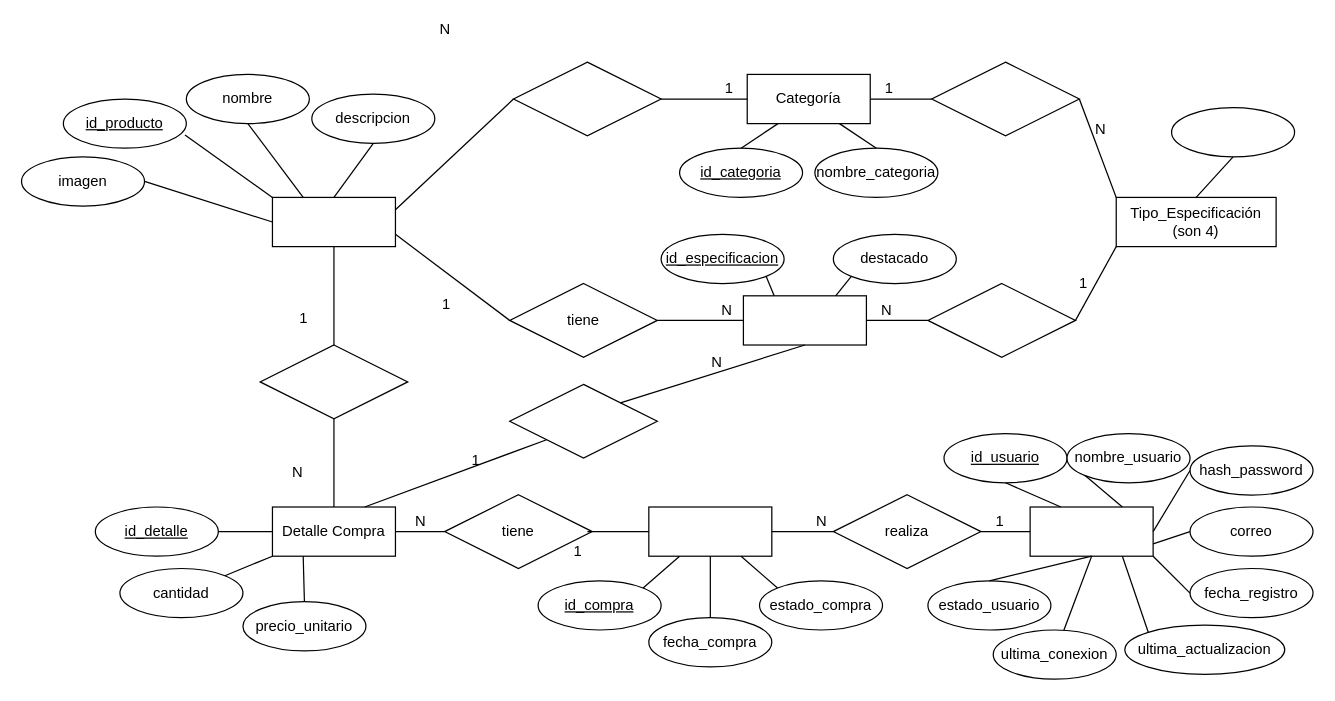
This 1335x701 diagram has some shape labels left out. Here are the shapes that lost their labels. From the top down, the box of each, then its label:
(512, 61, 661, 136): pertenece a
(930, 61, 1079, 136): define
(1170, 106, 1295, 157): precio
(271, 196, 395, 247): Producto
(742, 295, 866, 345): Especificación
(927, 282, 1076, 357): es de
(259, 344, 408, 419): corresponde a
(508, 383, 657, 458): incluye
(648, 506, 772, 556): Compra
(1029, 506, 1153, 556): Usuario
